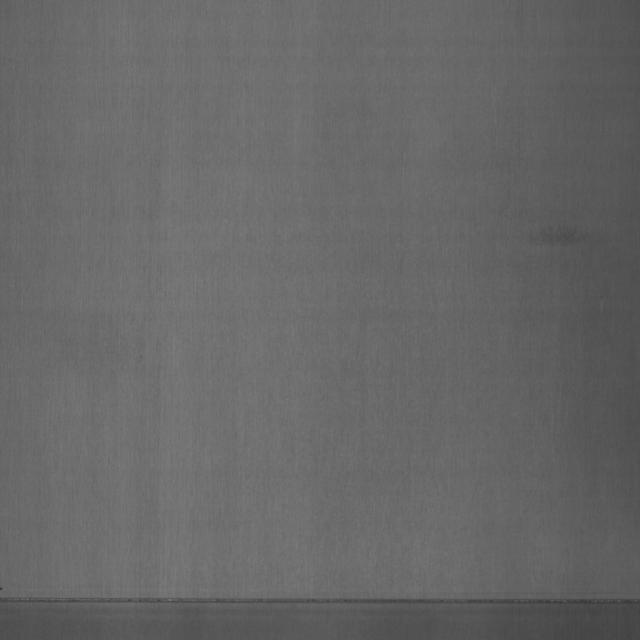crease: (3, 583, 640, 621)
